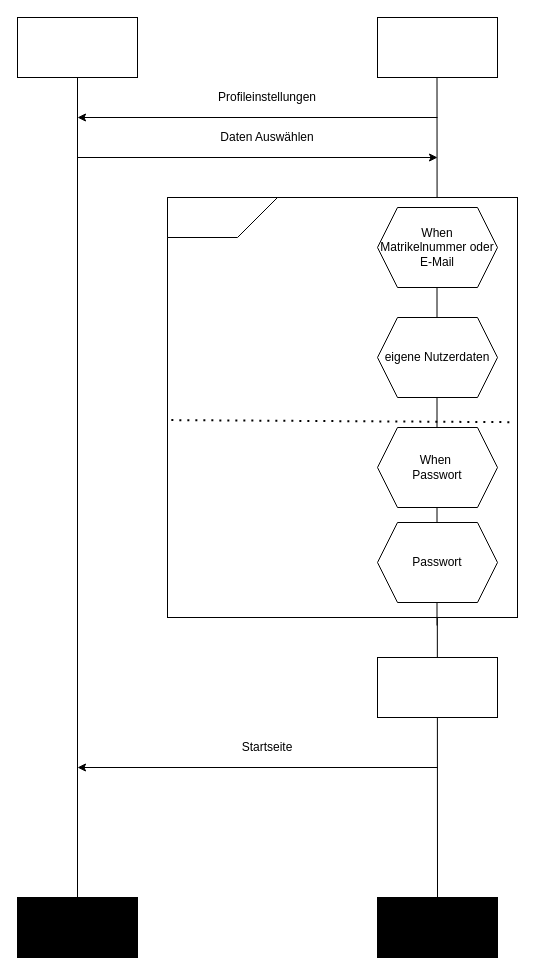
The diagram is 535 pixels wide and 975 high, and some of its shapes have lost their labels. The shapes that lost their labels are listed below. From the top down, each one's centre as x and y in pixels, then its label:
pixel 222 217: alt
pixel 437 687: Profil aktualisiert
